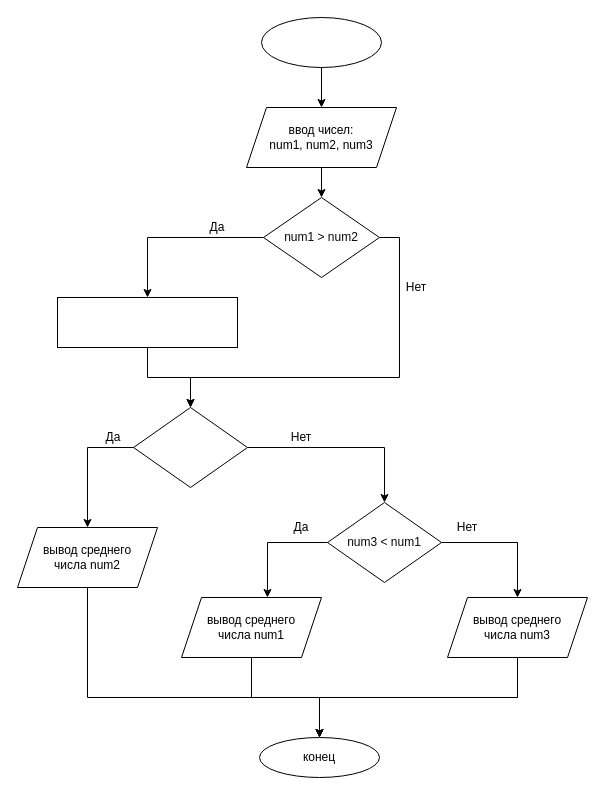
The diagram is 605 pixels wide and 795 high, and some of its shapes have lost their labels. The shapes that lost their labels are listed below. From the top down, each one's centre as x and y in pixels, then its label:
(321,42): начало
(147,322): num1, num2 = num2, num1
(190,447): num3 > num2
